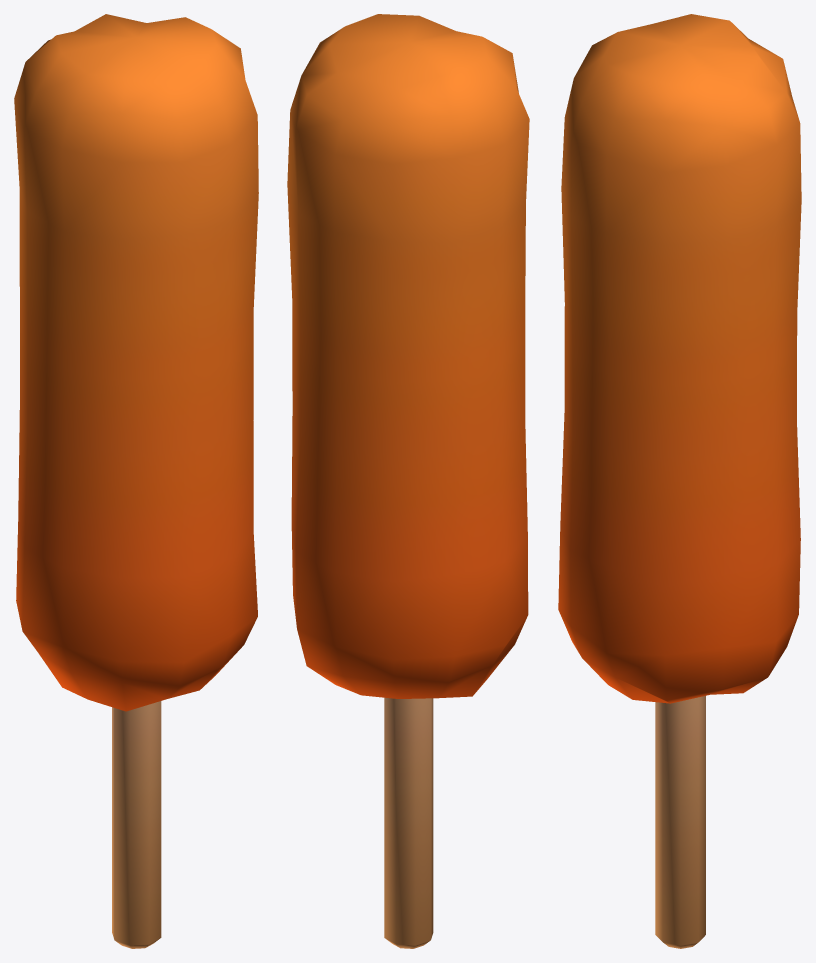
Rendered from SM_Corn_Dog_1.fbx.
3 renders of one model, left to right at view 1: azimuth 30°, elevation 25°; view 2: azimuth 150°, elevation 25°; view 3: azimuth 270°, elevation 25°, orthographic.
Parts seen in each view (by area): view 1: SM_Corn_Dog_1; view 2: SM_Corn_Dog_1; view 3: SM_Corn_Dog_1.
Part boxes in pixels (left/top/right/bottom): SM_Corn_Dog_1: left=14, top=14, right=258, bottom=948; SM_Corn_Dog_1: left=287, top=14, right=529, bottom=948; SM_Corn_Dog_1: left=558, top=14, right=801, bottom=948.
Size of the model in its own units: 5.75 by 23.36 by 5.75.
1 material, 1 textured.
